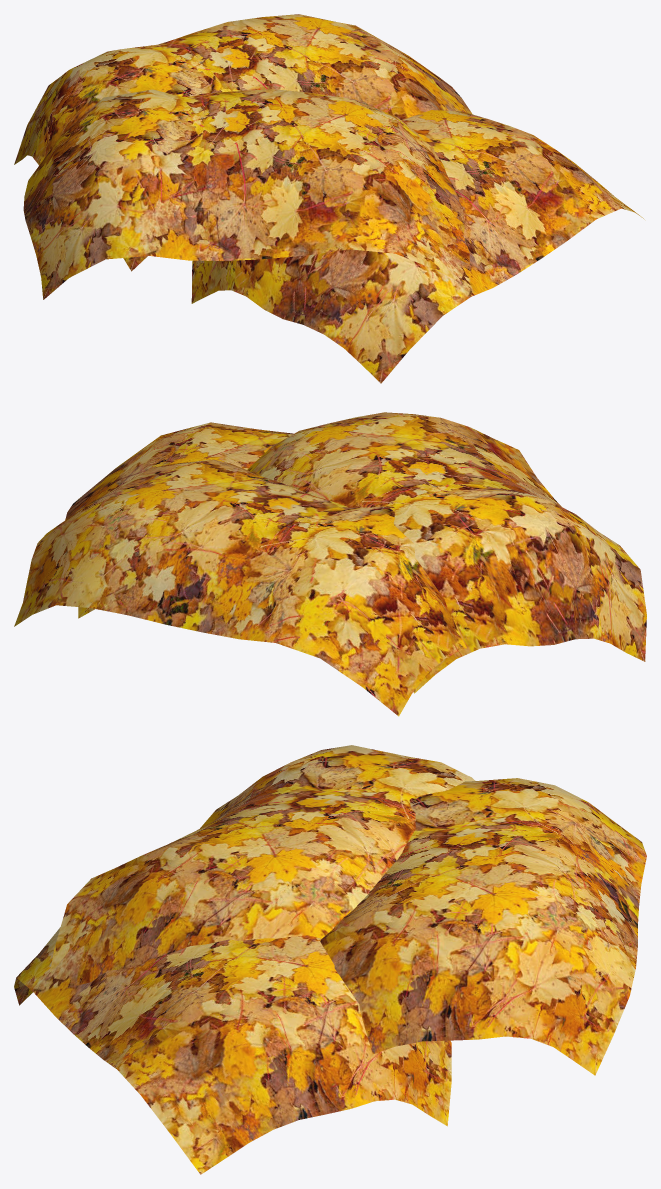
The model's file is LeafPile.fbx.
3 views of the same model, one above another, from view 1: azimuth 30°, elevation 25°; view 2: azimuth 150°, elevation 25°; view 3: azimuth 270°, elevation 25° (orthographic). The views are drawn at different scales.
Visible parts, largest first — view 1: LeafPile.001; view 2: LeafPile.001; view 3: LeafPile.001.
Boxes of the visible parts, left/top/right/bottom form: LeafPile.001: left=14, top=14, right=644, bottom=383; LeafPile.001: left=14, top=412, right=646, bottom=716; LeafPile.001: left=14, top=745, right=646, bottom=1174.
Size of the model in its own units: 90.32 by 27.43 by 77.97.
